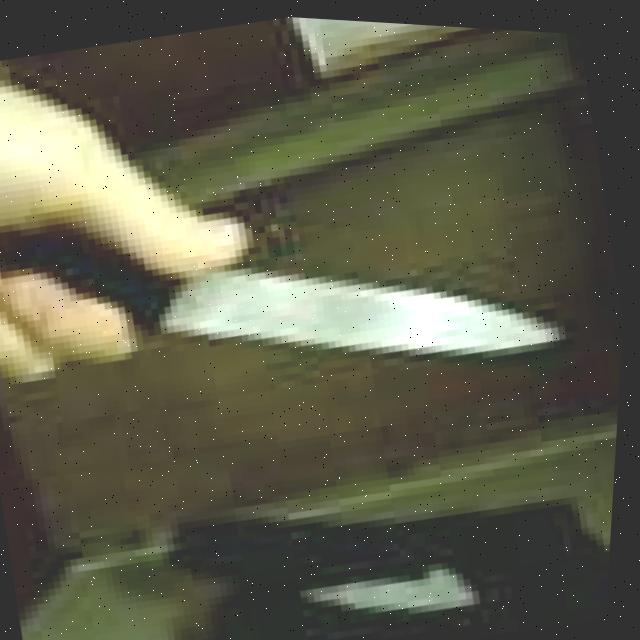knife: (156, 198, 575, 416)
